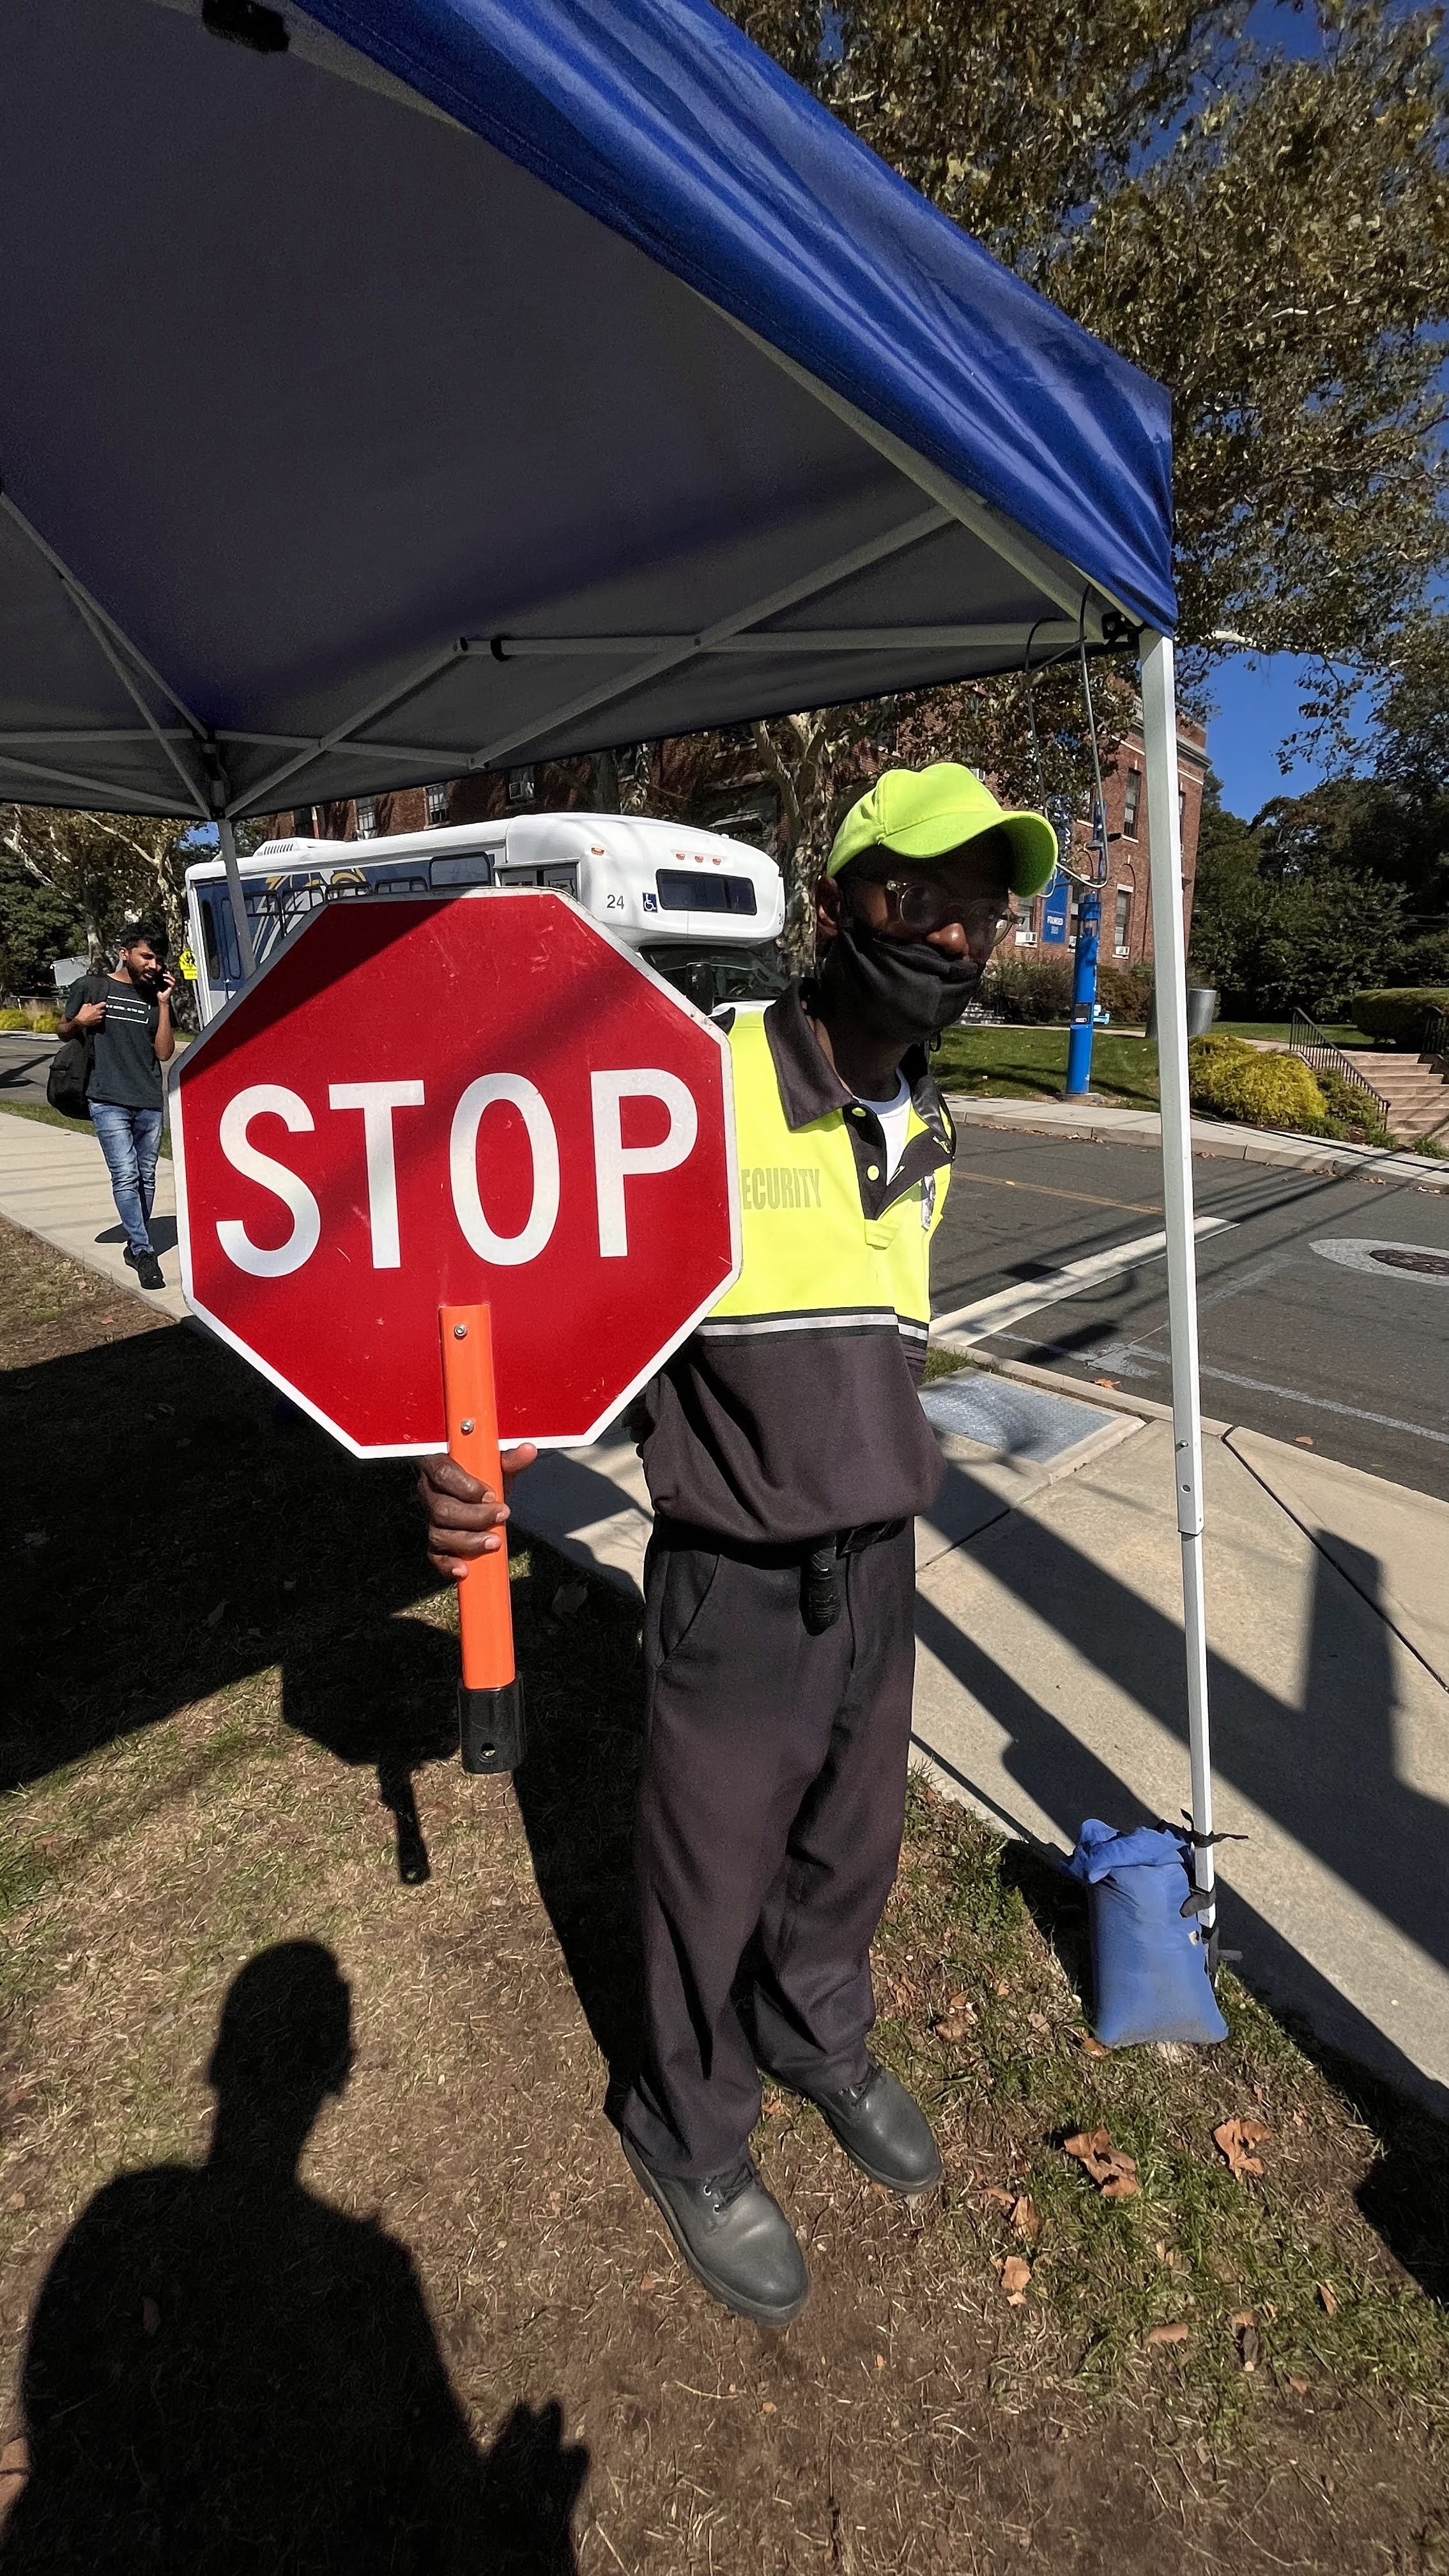Security Officer: (195, 695, 1028, 1691)
